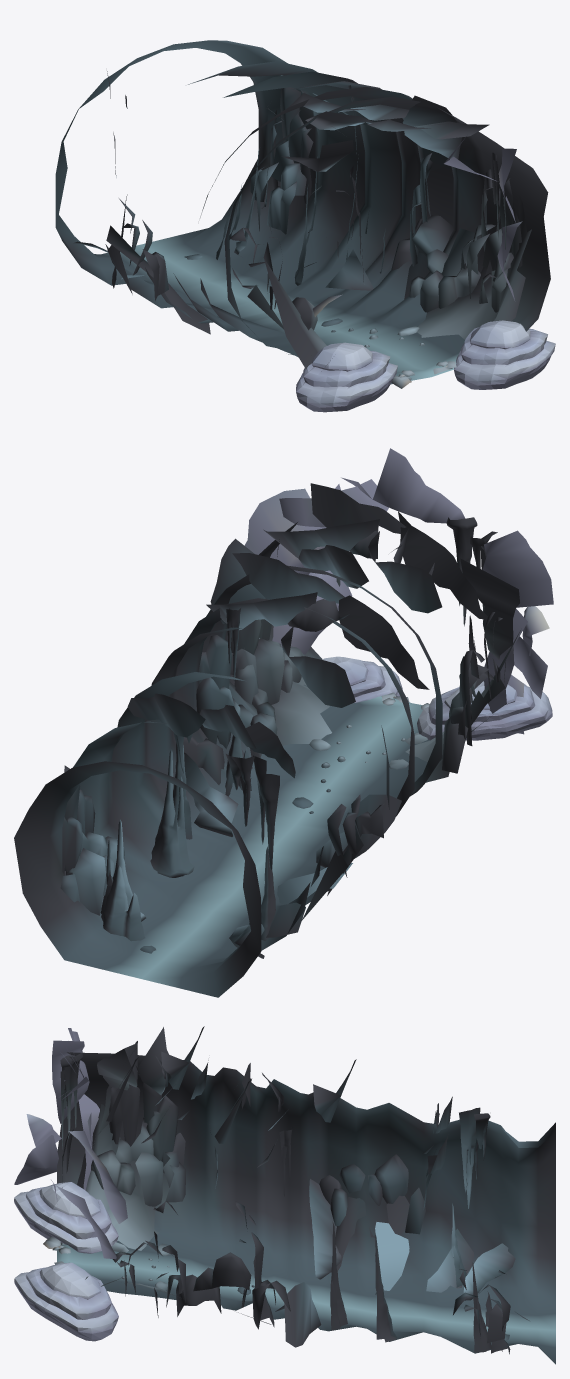
The model's file is Arctic_Tunnels_Exit_A.glb.
3 views of the same model, one above another, from view 1: azimuth 30°, elevation 25°; view 2: azimuth 150°, elevation 25°; view 3: azimuth 270°, elevation 25° (orthographic). The views are drawn at different scales.
Visible parts, largest first — view 1: Arctic_Tunnels_Exit_A_Reflection, TunnelRocks_Exit, Arctic_Narrows_Right_Snow_A01_Mid (×2), Arctic_Narrows_Right_Snow_A01_Top (×2), Arctic_Narrows_Right_Snow_A01 (1), Arctic_Narrows_Right_Snow_A01, Arctic_Tunnels_Exit_A; view 2: Arctic_Tunnels_Exit_A_Reflection, TunnelRocks_Exit, Arctic_Tunnels_Exit_A, Arctic_Narrows_Right_Snow_A01 (1), Arctic_Narrows_Right_Snow_A01_Mid (×2), Arctic_Narrows_Right_Snow_A01_Top; view 3: Arctic_Tunnels_Exit_A_Reflection, TunnelRocks_Exit, Arctic_Tunnels_Exit_A, Arctic_Narrows_Right_Snow_A01_Mid (×2), Arctic_Narrows_Right_Snow_A01_Top (×2), Arctic_Narrows_Right_Snow_A01, Arctic_Narrows_Right_Snow_A01 (1).
Part boxes in pixels (x1,y1,x2,y2): Arctic_Tunnels_Exit_A_Reflection: [55, 40, 550, 388]; TunnelRocks_Exit: [72, 93, 489, 290]; Arctic_Narrows_Right_Snow_A01_Mid (×2): [303, 327, 547, 387]; Arctic_Narrows_Right_Snow_A01_Top (×2): [312, 320, 530, 371]; Arctic_Narrows_Right_Snow_A01 (1): [296, 363, 397, 412]; Arctic_Narrows_Right_Snow_A01: [454, 340, 555, 389]; Arctic_Tunnels_Exit_A: [121, 136, 522, 371]; Arctic_Tunnels_Exit_A_Reflection: [14, 517, 520, 997]; TunnelRocks_Exit: [127, 483, 519, 958]; Arctic_Tunnels_Exit_A: [244, 448, 553, 904]; Arctic_Narrows_Right_Snow_A01 (1): [417, 686, 552, 740]; Arctic_Narrows_Right_Snow_A01_Mid (×2): [350, 660, 535, 724]; Arctic_Narrows_Right_Snow_A01_Top: [322, 656, 368, 685]; Arctic_Tunnels_Exit_A_Reflection: [43, 1049, 555, 1364]; TunnelRocks_Exit: [97, 1026, 515, 1347]; Arctic_Tunnels_Exit_A: [14, 1028, 409, 1290]; Arctic_Narrows_Right_Snow_A01_Mid (×2): [26, 1186, 111, 1319]; Arctic_Narrows_Right_Snow_A01_Top (×2): [39, 1182, 100, 1299]; Arctic_Narrows_Right_Snow_A01: [14, 1272, 118, 1341]; Arctic_Narrows_Right_Snow_A01 (1): [14, 1191, 118, 1253].
Size of what is drawn, in the model's own units: 11.04 by 11.66 by 18.72.
